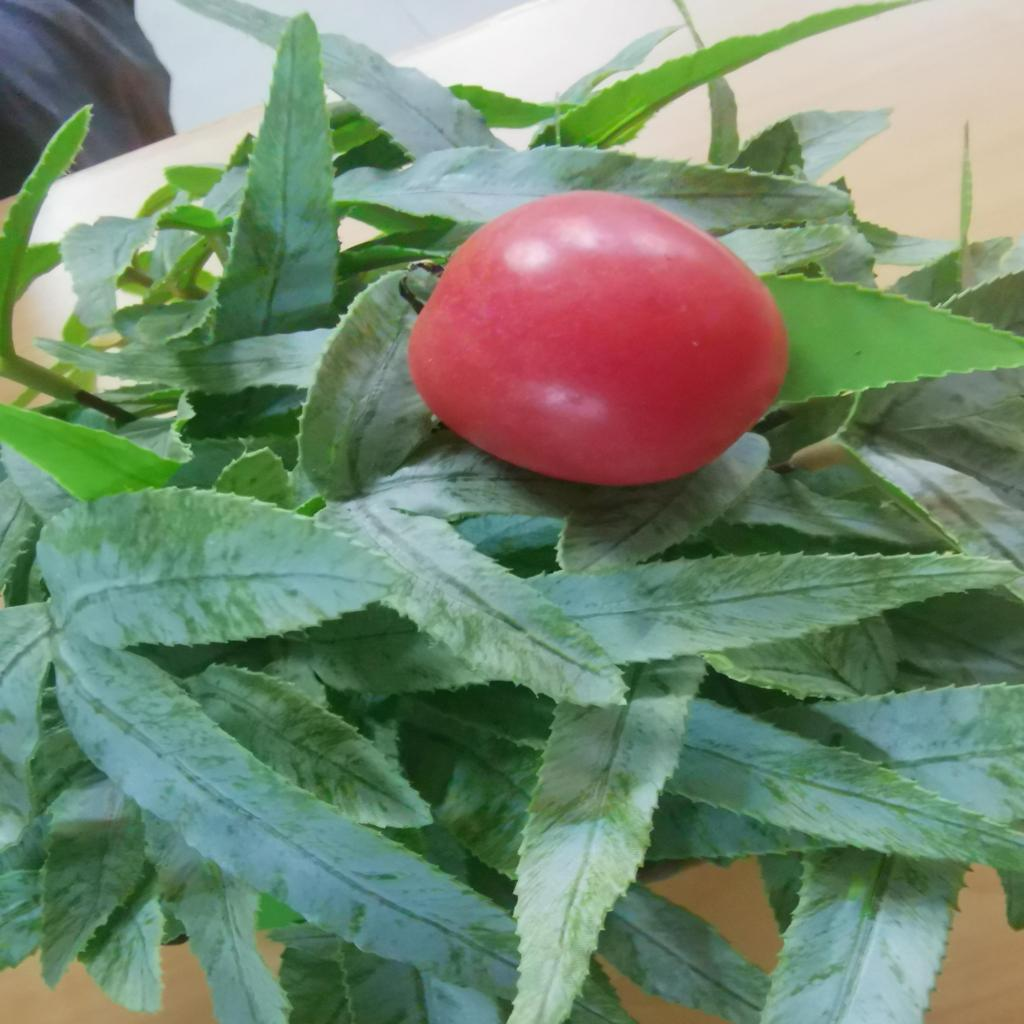tomato: (402, 192, 806, 486)
